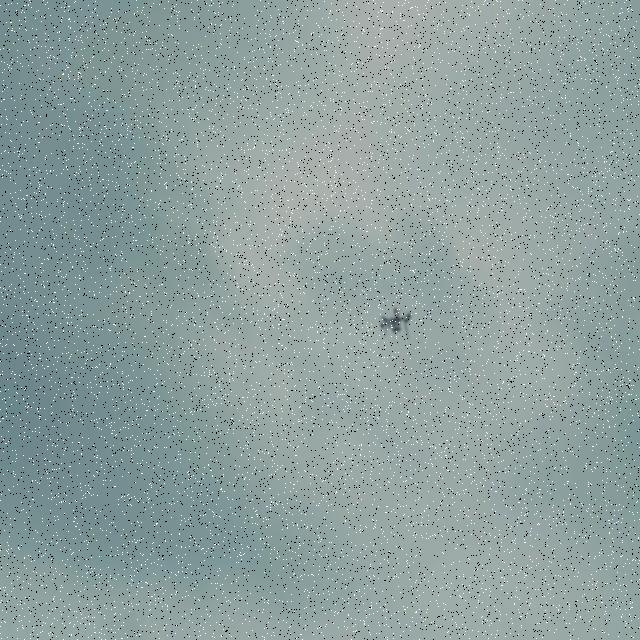UAV: (379, 308, 411, 344)
